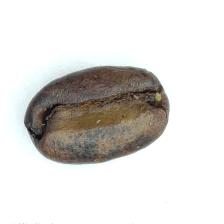NG: (23, 79, 163, 163)
